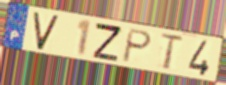1: (75, 18, 93, 58)
4: (187, 39, 210, 77)
P: (120, 27, 154, 65)
T: (159, 32, 185, 72)
V: (32, 11, 61, 52)
Z: (91, 21, 123, 63)
